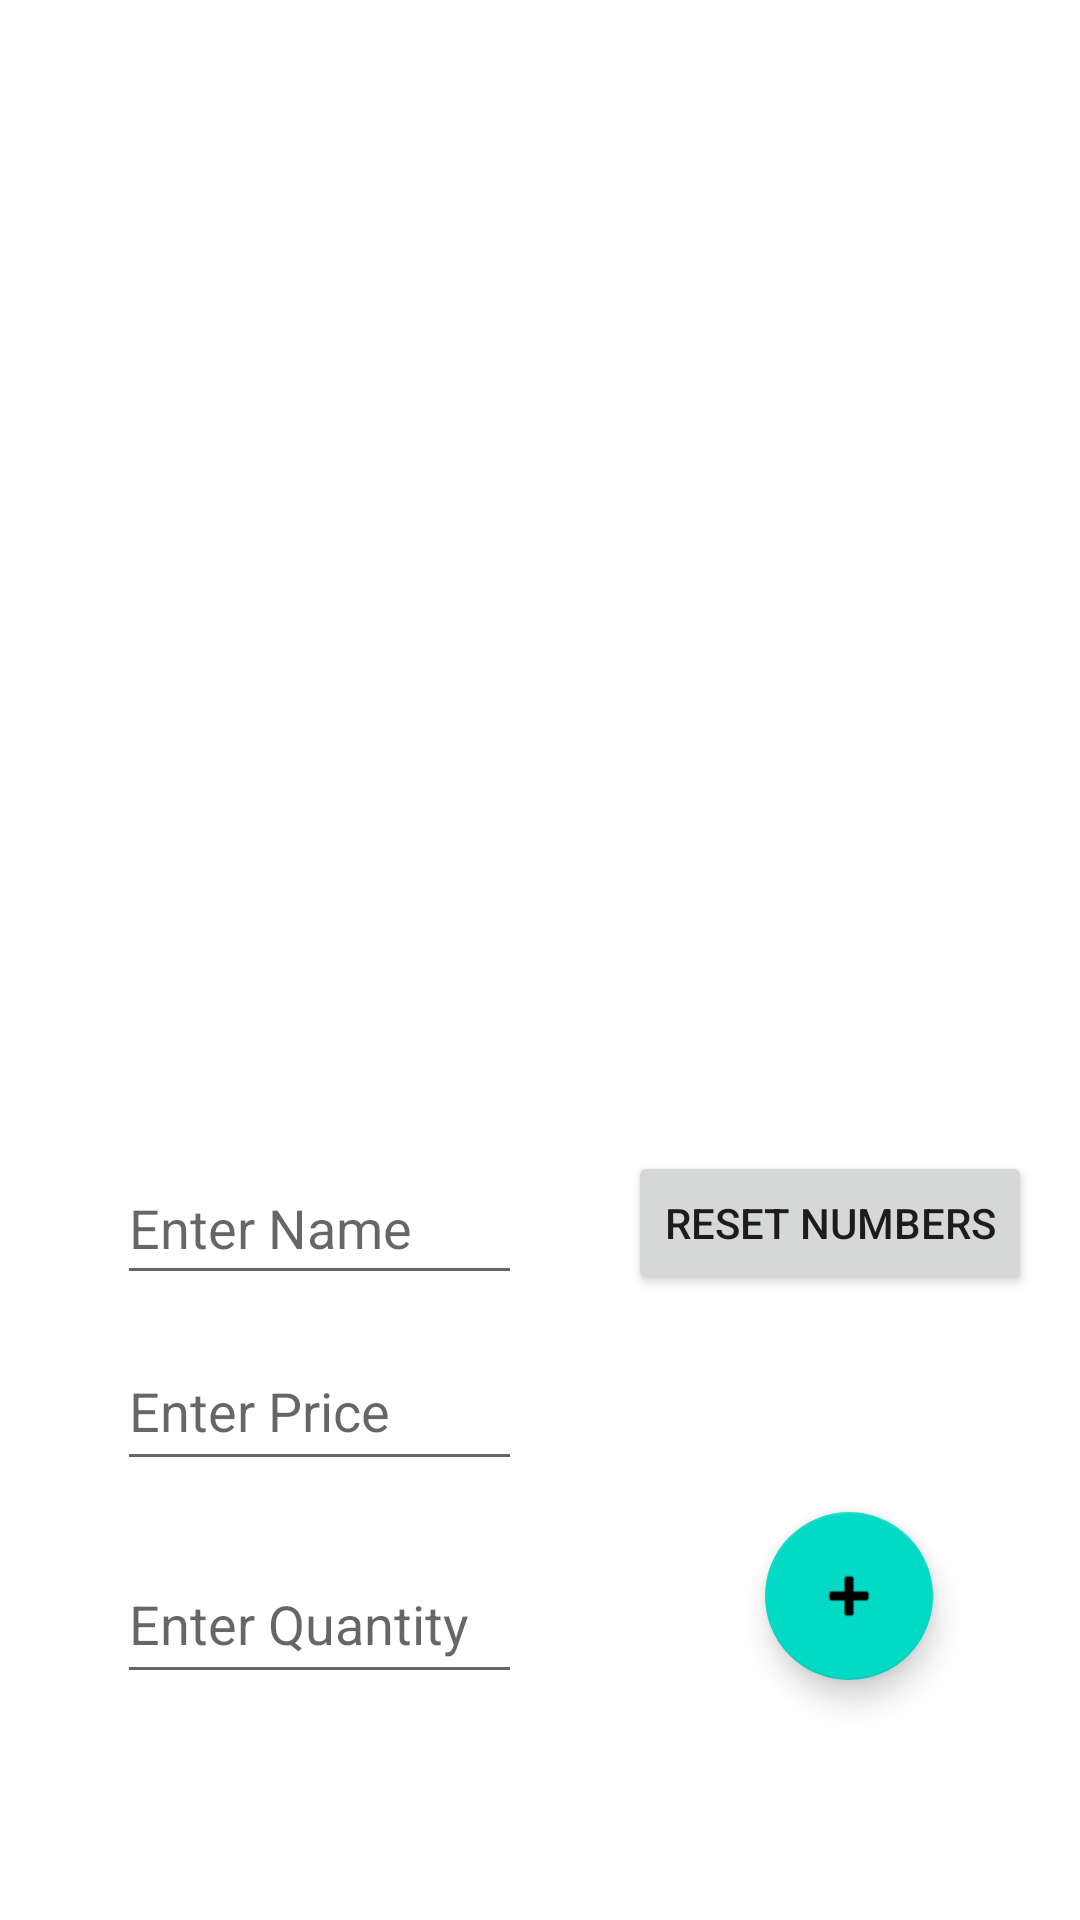

Point at icon controls on the screen. Image size 1080*1920, points as point (x, y).
add: point (849, 1596)
